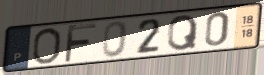0: (101, 19, 130, 60), (203, 10, 232, 49)
2: (135, 18, 163, 55)
F: (62, 22, 99, 65)
O: (30, 26, 63, 66)
Q: (167, 13, 200, 52)
